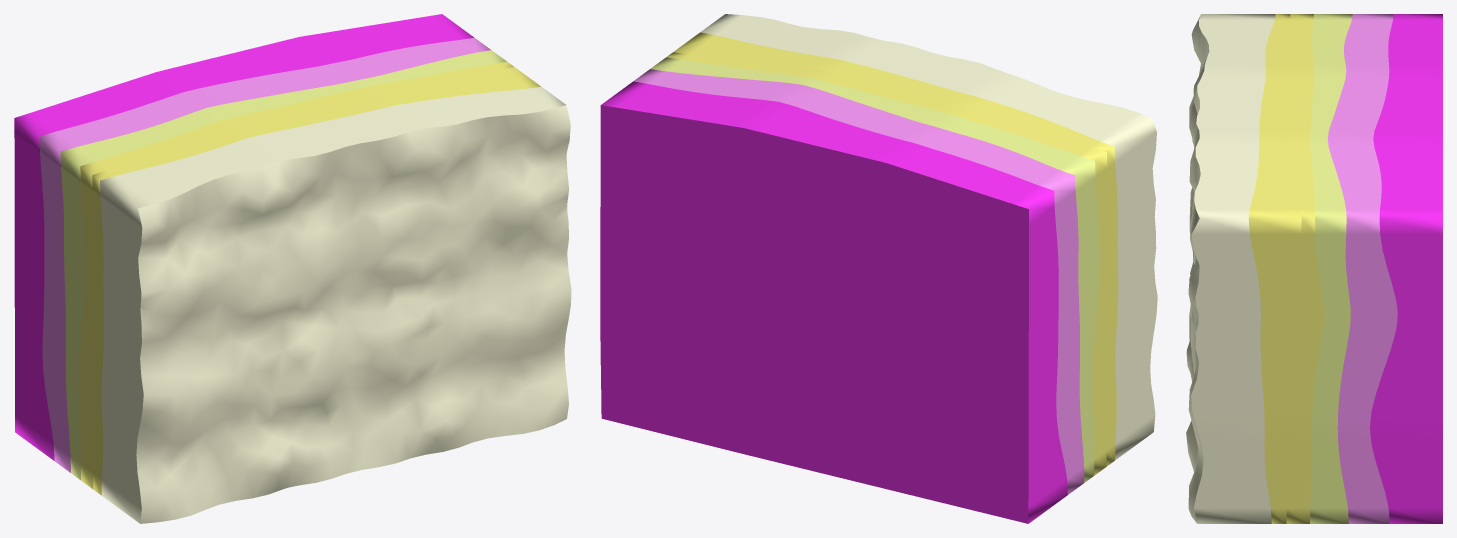
File: mdl2.obj
The picture shows the model from 3 angles, left to right: view 1: azimuth 30°, elevation 25°; view 2: azimuth 150°, elevation 25°; view 3: azimuth 270°, elevation 25°; orthographic projection. The views are drawn at different scales.
Parts seen in each view (by area): view 1: MatrixTransform_Container::321::06/25/2111:28:29_Switch_1-2_Swit, MatrixTransform_Container::346::06/25/2111:28:29_Switch_17-2_Swi, MatrixTransform_Container::341::06/25/2111:28:29_Switch_17-1_Swi, MatrixTransform_Container::336::06/25/2111:28:29_Switch_11-1_Swi, MatrixTransform_Container::326::06/25/2111:28:29_Switch_8-1_Swit, MatrixTransform_Container::331::06/25/2111:28:29_Switch_8-4_Swit; view 2: MatrixTransform_Container::346::06/25/2111:28:29_Switch_17-2_Swi, MatrixTransform_Container::321::06/25/2111:28:29_Switch_1-2_Swit, MatrixTransform_Container::341::06/25/2111:28:29_Switch_17-1_Swi, MatrixTransform_Container::336::06/25/2111:28:29_Switch_11-1_Swi, MatrixTransform_Container::326::06/25/2111:28:29_Switch_8-1_Swit, MatrixTransform_Container::331::06/25/2111:28:29_Switch_8-4_Swit; view 3: MatrixTransform_Container::321::06/25/2111:28:29_Switch_1-2_Swit, MatrixTransform_Container::346::06/25/2111:28:29_Switch_17-2_Swi, MatrixTransform_Container::341::06/25/2111:28:29_Switch_17-1_Swi, MatrixTransform_Container::326::06/25/2111:28:29_Switch_8-1_Swit, MatrixTransform_Container::336::06/25/2111:28:29_Switch_11-1_Swi, MatrixTransform_Container::331::06/25/2111:28:29_Switch_8-4_Swit.
Part boxes in pixels (<box>): MatrixTransform_Container::321::06/25/2111:28:29_Switch_1-2_Swit: <box>100,86,571,523</box>; MatrixTransform_Container::346::06/25/2111:28:29_Switch_17-2_Swi: <box>14,14,473,460</box>; MatrixTransform_Container::341::06/25/2111:28:29_Switch_17-1_Swi: <box>39,37,490,472</box>; MatrixTransform_Container::336::06/25/2111:28:29_Switch_11-1_Swi: <box>60,50,507,480</box>; MatrixTransform_Container::326::06/25/2111:28:29_Switch_8-1_Swit: <box>92,67,540,495</box>; MatrixTransform_Container::331::06/25/2111:28:29_Switch_8-4_Swit: <box>79,62,513,489</box>; MatrixTransform_Container::346::06/25/2111:28:29_Switch_17-2_Swi: <box>600,81,1067,523</box>; MatrixTransform_Container::321::06/25/2111:28:29_Switch_1-2_Swit: <box>700,14,1157,460</box>; MatrixTransform_Container::341::06/25/2111:28:29_Switch_17-1_Swi: <box>634,69,1084,494</box>; MatrixTransform_Container::336::06/25/2111:28:29_Switch_11-1_Swi: <box>650,57,1100,482</box>; MatrixTransform_Container::326::06/25/2111:28:29_Switch_8-1_Swit: <box>673,32,1118,466</box>; MatrixTransform_Container::331::06/25/2111:28:29_Switch_8-4_Swit: <box>666,52,1109,475</box>; MatrixTransform_Container::321::06/25/2111:28:29_Switch_1-2_Swit: <box>1186,14,1275,523</box>; MatrixTransform_Container::346::06/25/2111:28:29_Switch_17-2_Swi: <box>1370,14,1442,523</box>; MatrixTransform_Container::341::06/25/2111:28:29_Switch_17-1_Swi: <box>1327,14,1397,523</box>; MatrixTransform_Container::326::06/25/2111:28:29_Switch_8-1_Swit: <box>1248,14,1301,523</box>; MatrixTransform_Container::336::06/25/2111:28:29_Switch_11-1_Swi: <box>1310,14,1352,523</box>; MatrixTransform_Container::331::06/25/2111:28:29_Switch_8-4_Swit: <box>1279,14,1323,523</box>.
Size of the model in its own units: 72.11 by 52.46 by 38.3.
